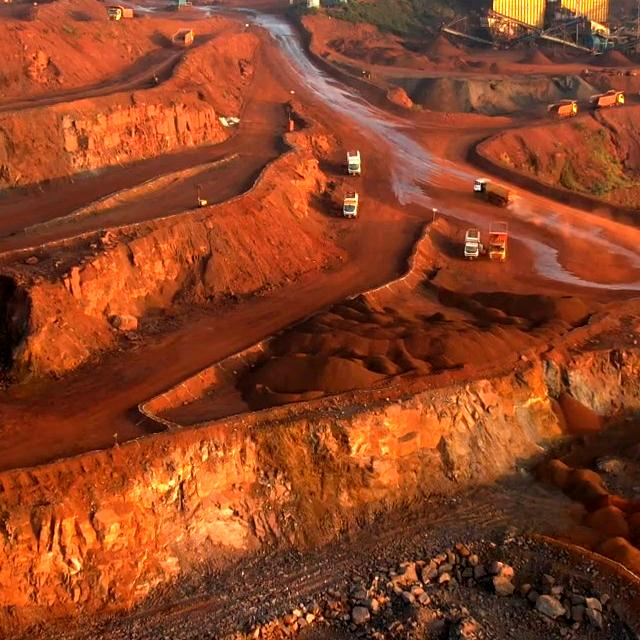Dumper truck: (488, 231, 507, 262), (548, 101, 577, 117), (594, 92, 625, 106), (108, 7, 133, 21)
car: (344, 149, 363, 178), (341, 194, 361, 219), (464, 232, 482, 256)
